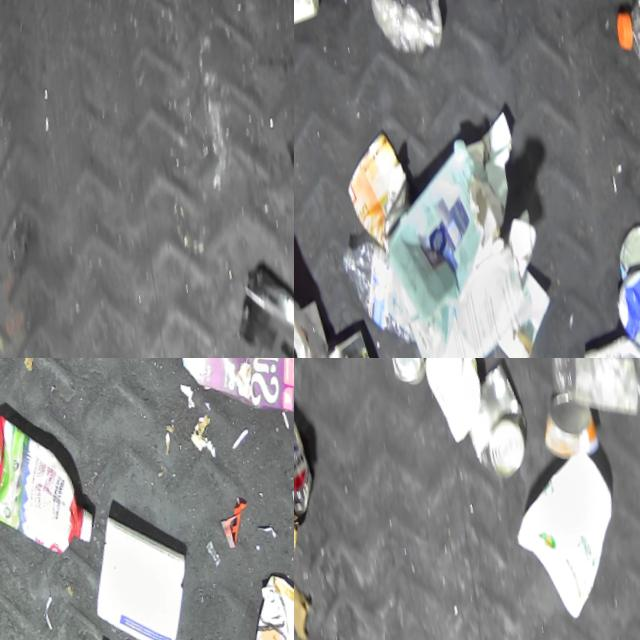can: (334, 109, 440, 256), (456, 358, 546, 479), (536, 382, 620, 466), (294, 302, 417, 358), (294, 408, 335, 530), (385, 358, 446, 394)
non_white_jug: (0, 391, 115, 567), (165, 358, 294, 428), (240, 553, 294, 640)
plastic_bottle: (339, 226, 435, 357), (462, 322, 553, 358)
